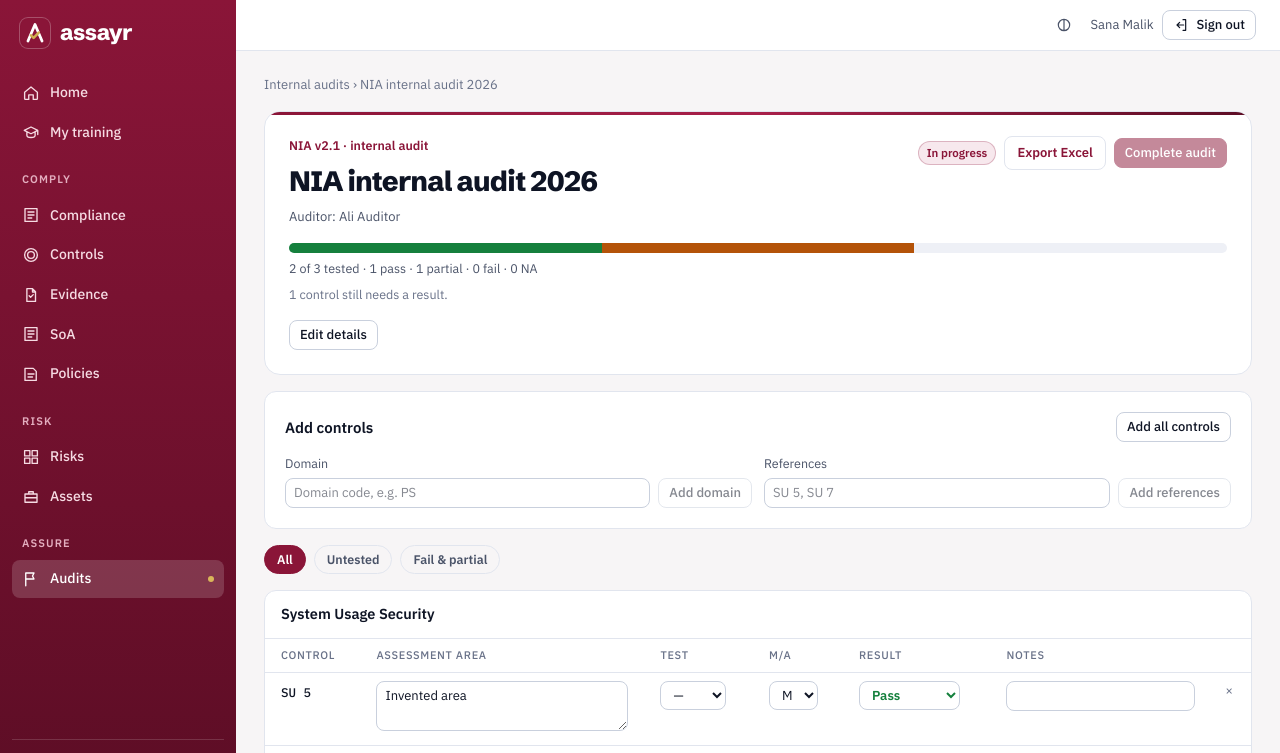
the Untested filter hides tested controls
This screenshot has width=1280, height=753.
Expected: the link "SU 5" is shown, [281,684,311,700]
Click the button "Untested" at point(353, 559), box [314,545,392,574]
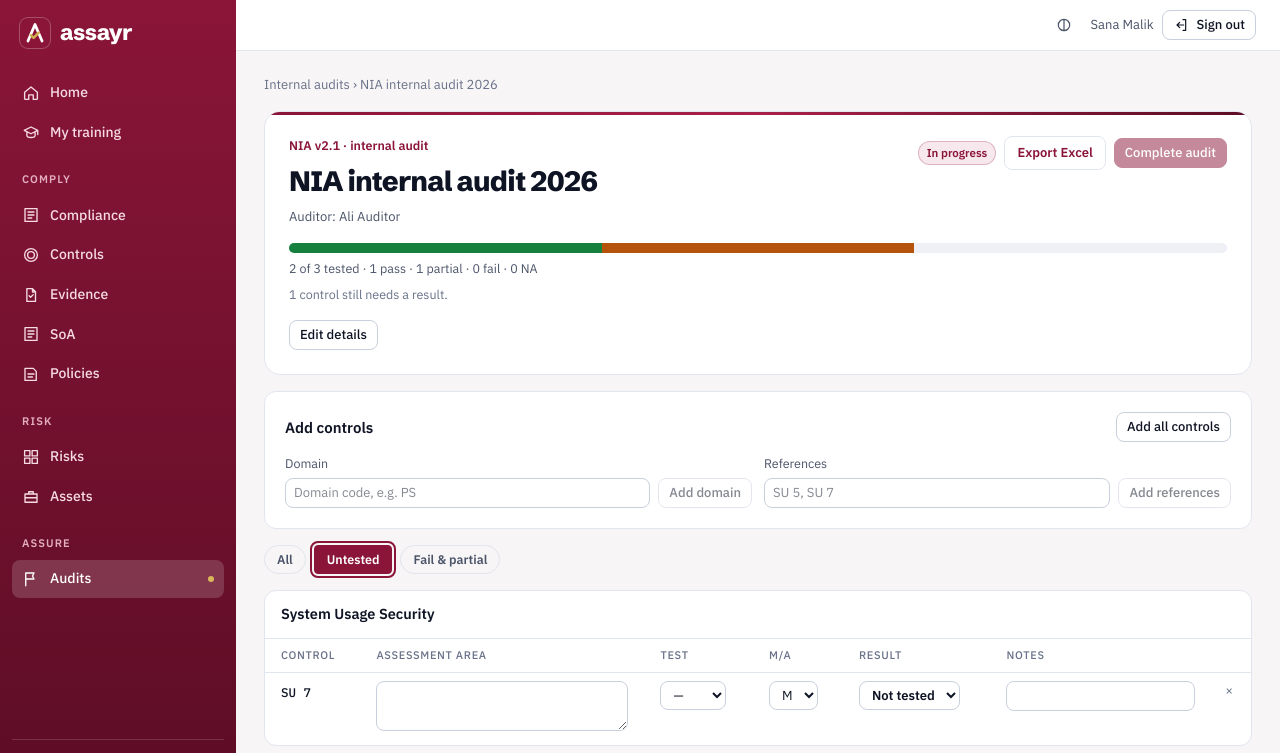
Expected: the link "SU 7" is shown, [281,684,311,700]
Click the button "Fail & partial" at point(450, 559), box [400,545,500,574]
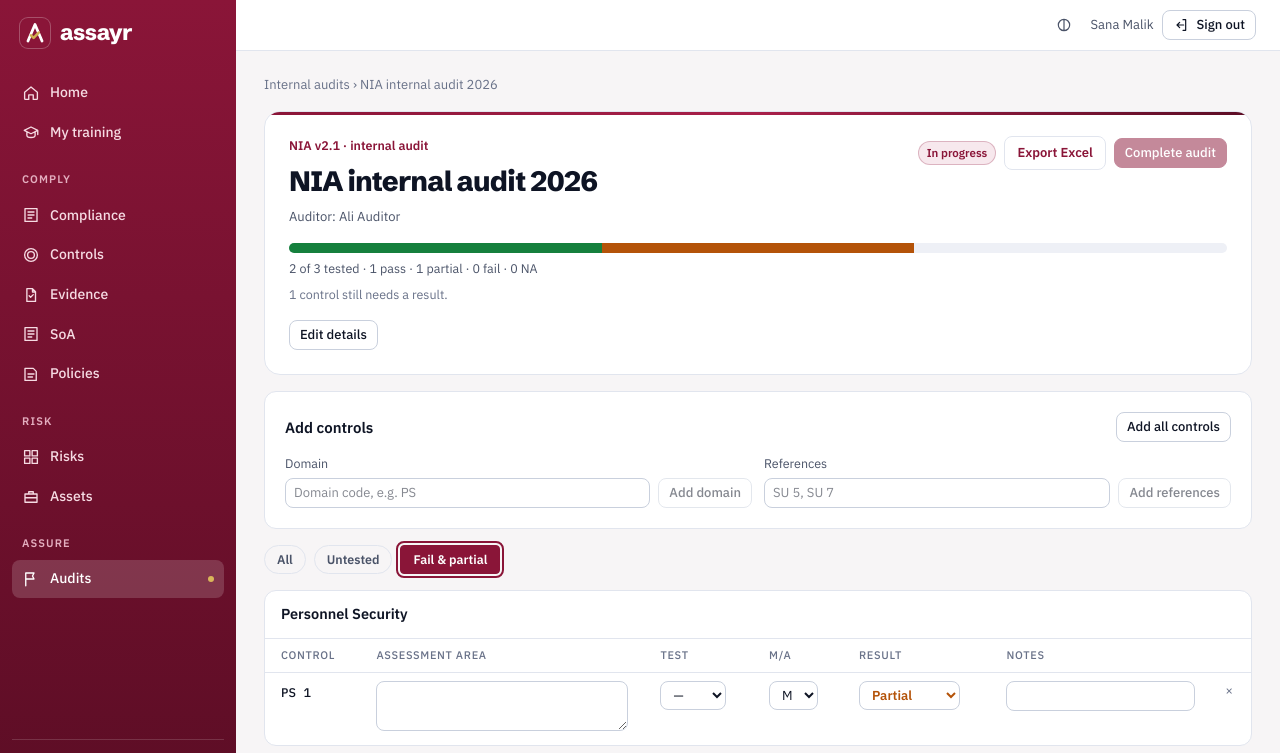
Now the link "PS 1" is shown, box [281,684,311,700]
